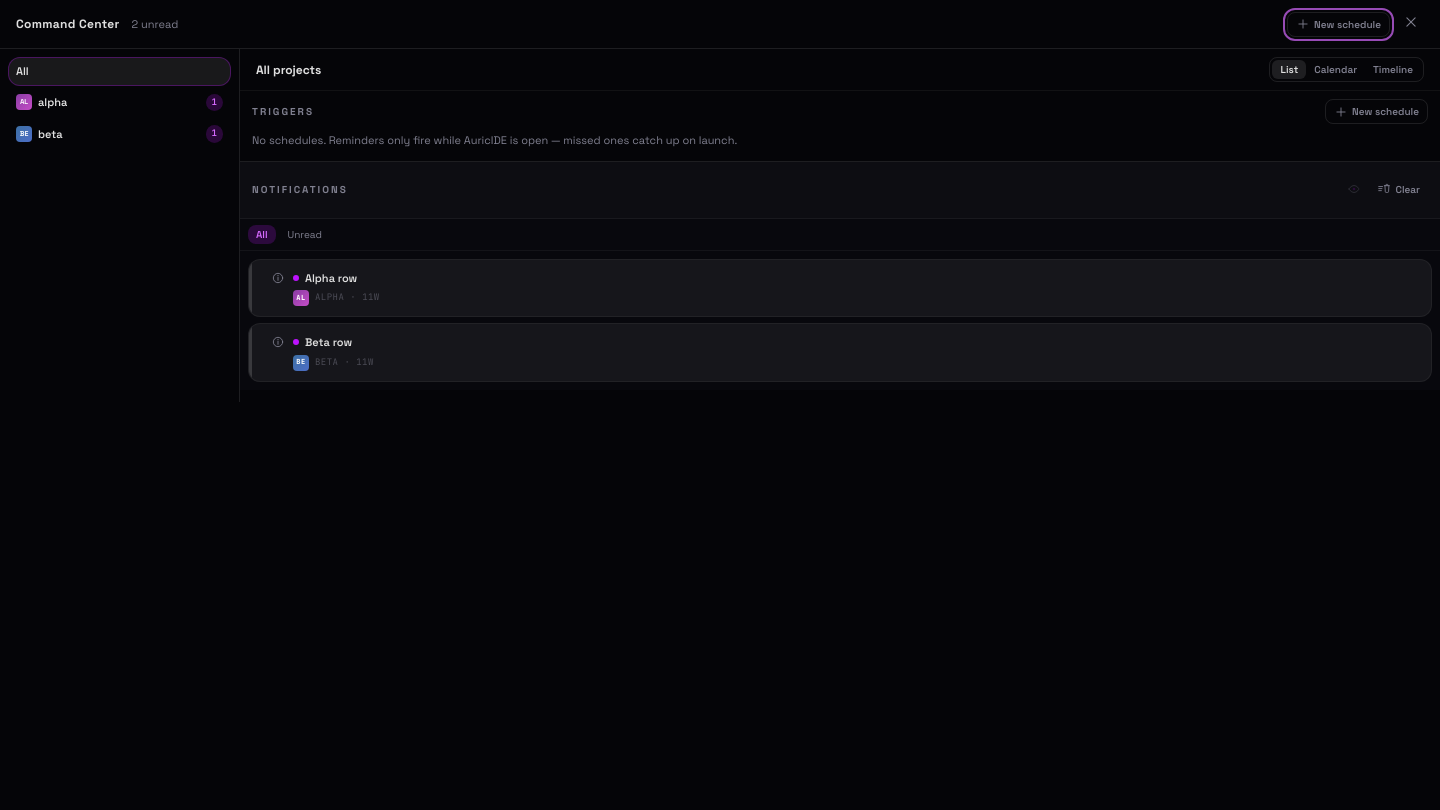
Test: CommandCenter › the rail › narrows the detail pane to the picked project
Expected: the text "Alpha row" is shown, left=305, top=270, right=357, bottom=286
Expected: the text "Beta row" is shown, left=305, top=334, right=352, bottom=350
Click the option "BE beta 1".
click(120, 134)  # box left=8, top=119, right=231, bottom=148
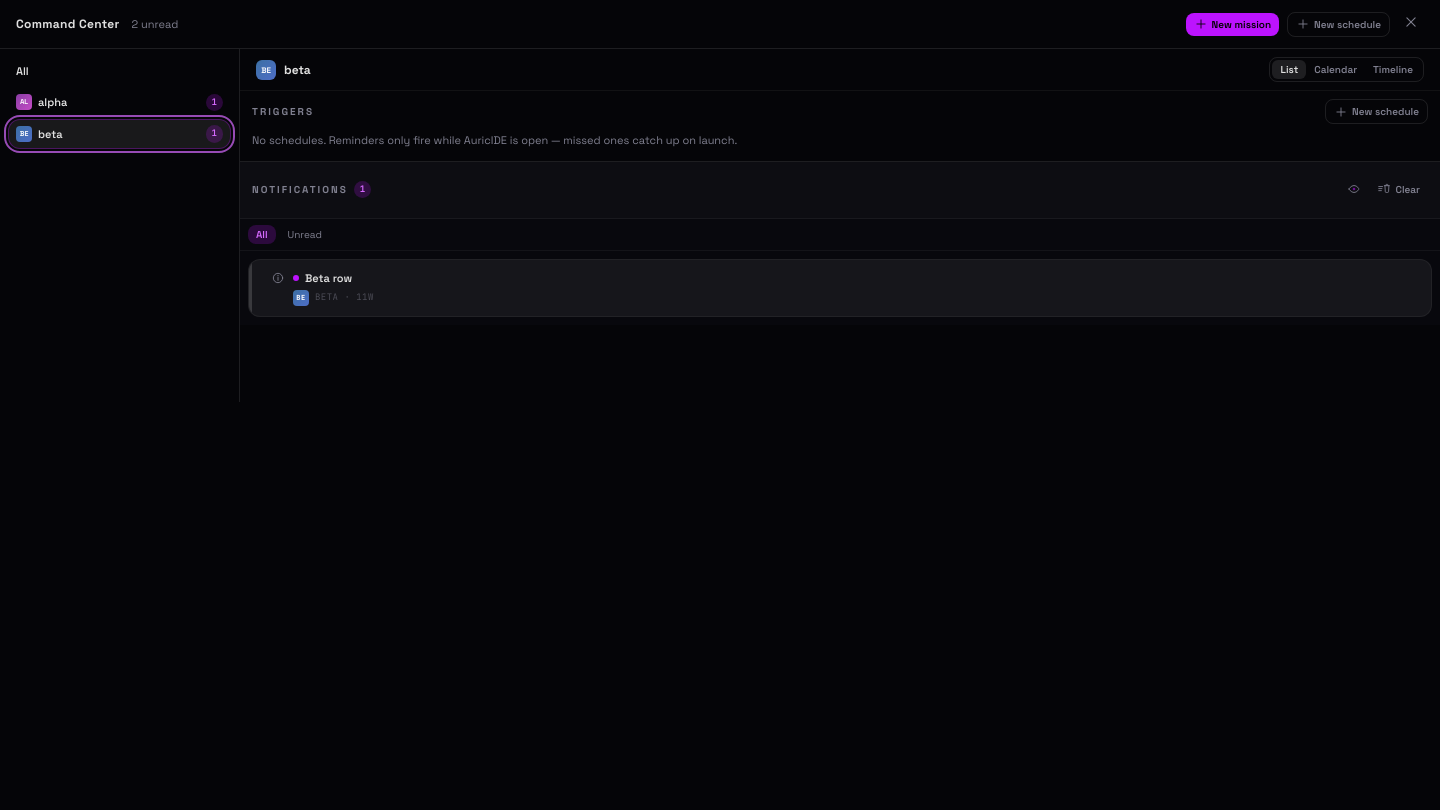
Expected: the text "Beta row" is shown, left=305, top=270, right=352, bottom=286
Now the element with test id "command-center-detail-heading" shows "beta", box left=284, top=62, right=311, bottom=78
Now the button "Alpha row" is gone
